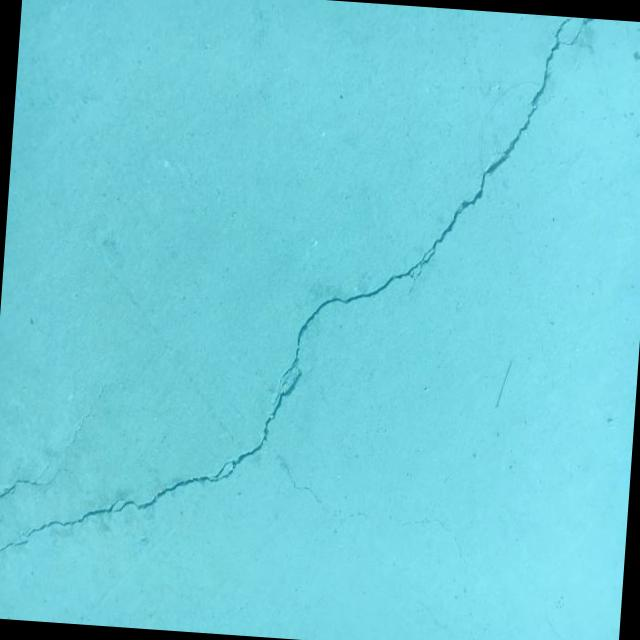crack: (0, 0, 594, 627), (281, 467, 469, 561), (0, 375, 106, 516)
